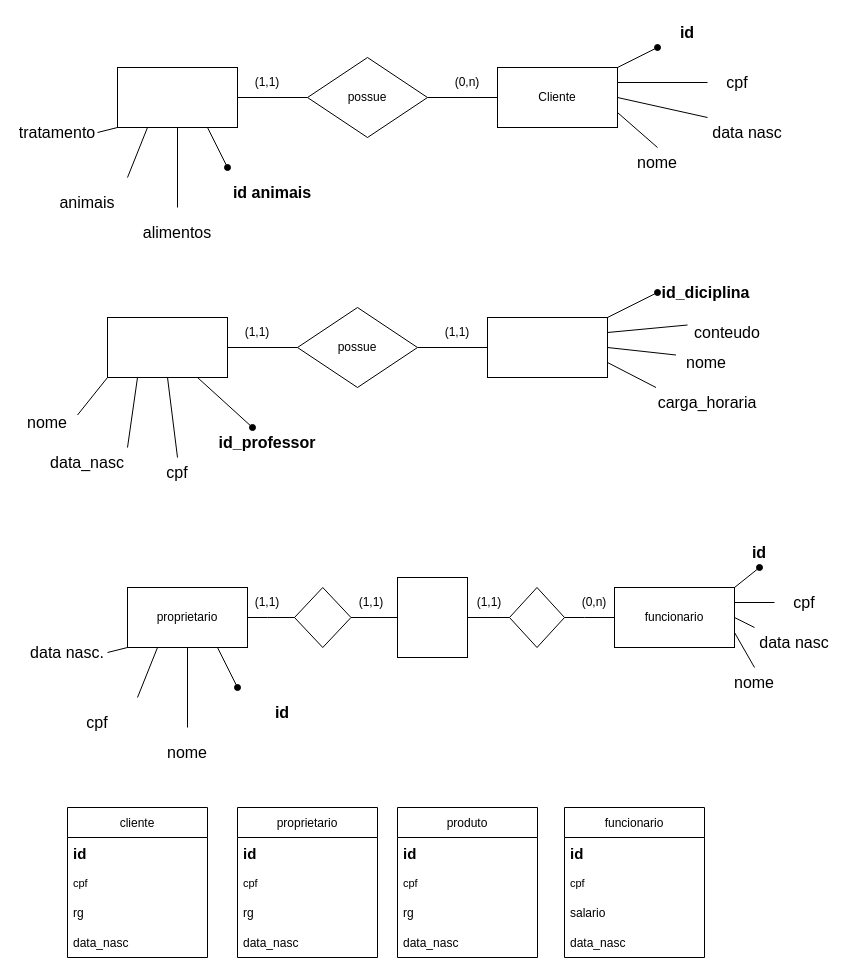
This 851x975 diagram has some shape labels left out. The box of each missing label's shape, as (x1, y1, x2, y2) in pixels:
Canil: (116, 66, 238, 128)
diciplina: (486, 316, 608, 378)
empresa: (396, 576, 468, 658)
professor: (106, 316, 228, 378)
